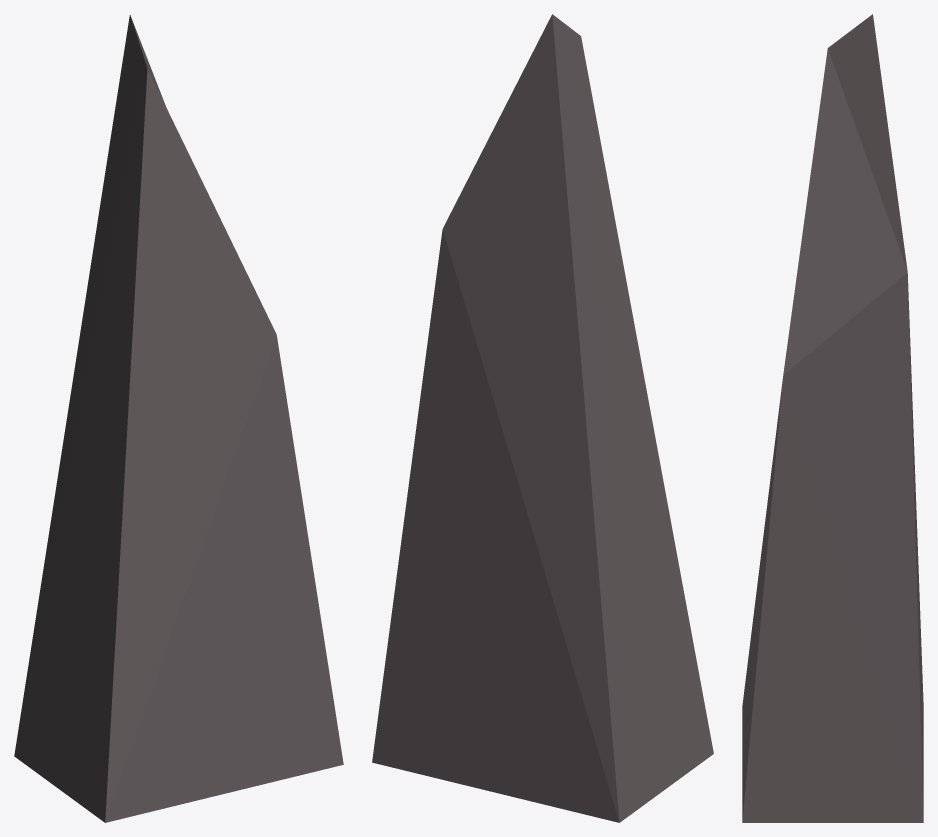
File: Rock_Sharp_s_04 5.fbx
3 renders of one model, left to right at view 1: azimuth 30°, elevation 25°; view 2: azimuth 150°, elevation 25°; view 3: azimuth 270°, elevation 25°, orthographic. The views are drawn at different scales.
Parts seen in each view (by area): view 1: Rock_Sharp_s_04; view 2: Rock_Sharp_s_04; view 3: Rock_Sharp_s_04.
Boxes of the visible parts, box(x1,y1,x2,y2) form: Rock_Sharp_s_04: box(14, 15, 343, 822); Rock_Sharp_s_04: box(372, 14, 713, 822); Rock_Sharp_s_04: box(742, 14, 923, 822).
Bounding box in the file's own units: 27.13 × 80.32 × 17.92.
